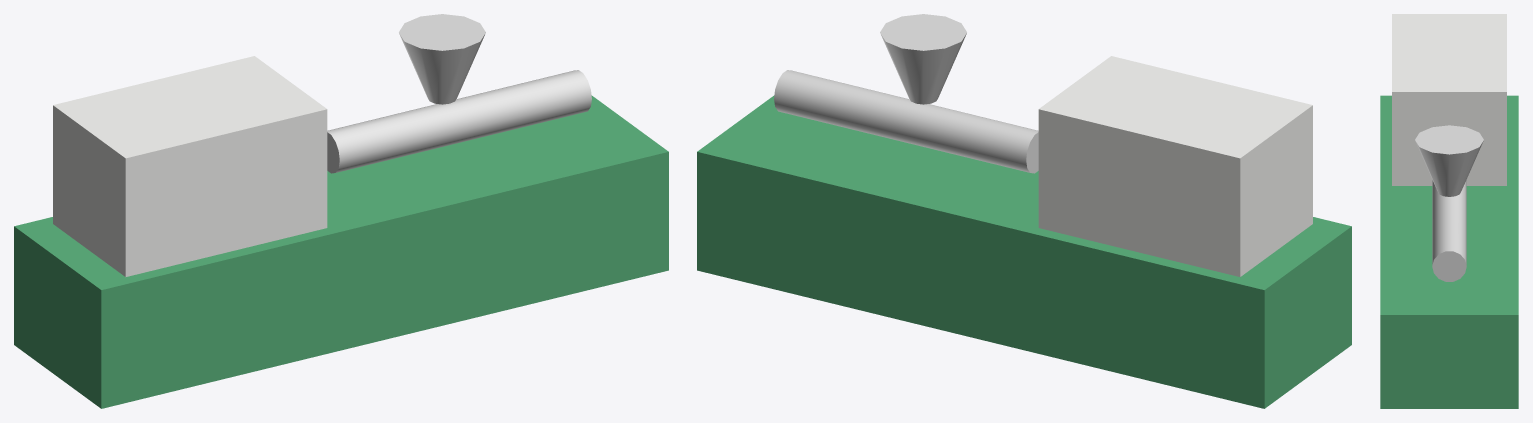
The model's file is industrial.machine.injection_moulder.glb.
3 renders of one model, left to right at view 1: azimuth 30°, elevation 25°; view 2: azimuth 150°, elevation 25°; view 3: azimuth 270°, elevation 25°, orthographic. The views are drawn at different scales.
Visible parts, largest first — view 1: main__plastic_green, main__paint_white, main__steel_stainless; view 2: main__plastic_green, main__paint_white, main__steel_stainless; view 3: main__plastic_green, main__paint_white, main__steel_stainless.
Boxes of the visible parts, x1,y1,x2,y2 form: main__plastic_green: (14,95,668,408); main__paint_white: (53,56,327,276); main__steel_stainless: (327,14,591,173); main__plastic_green: (697,95,1351,408); main__paint_white: (1038,56,1312,276); main__steel_stainless: (774,14,1038,173); main__plastic_green: (1380,95,1518,408); main__paint_white: (1392,14,1506,185); main__steel_stainless: (1415,125,1483,281).
Size of the model in its own units: 4.5 by 1.9 by 1.2.
